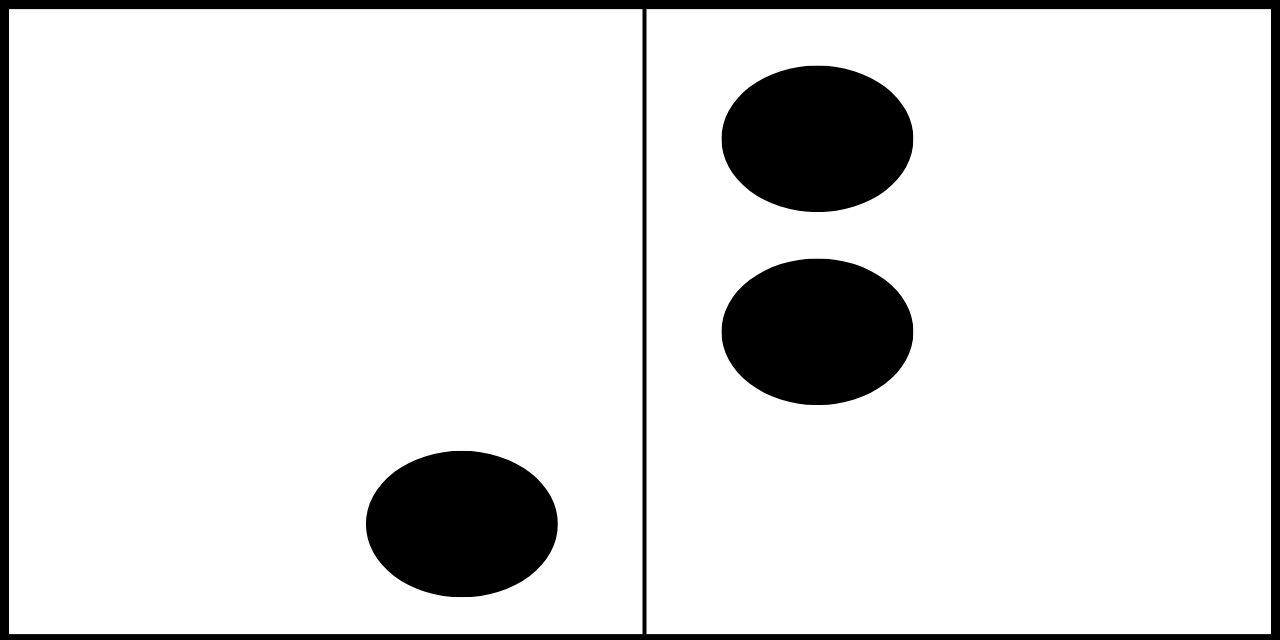capital_sign: (145, 65, 560, 601)
letter_B: (719, 65, 1157, 584)
